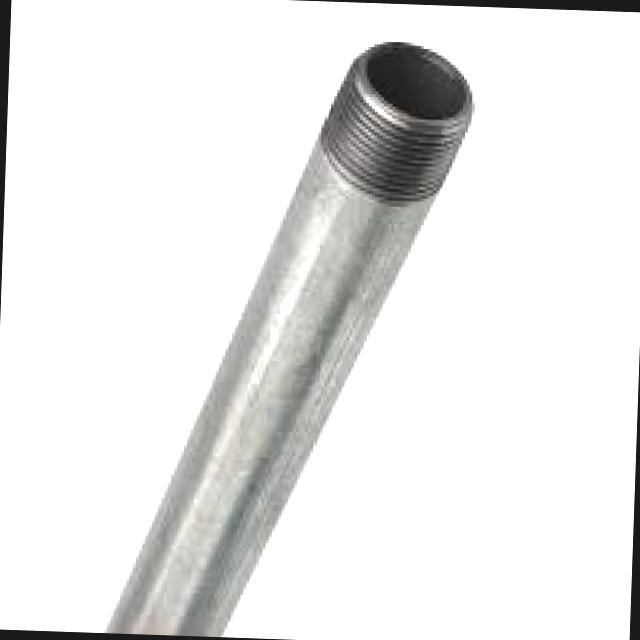gas: (105, 42, 470, 637)
